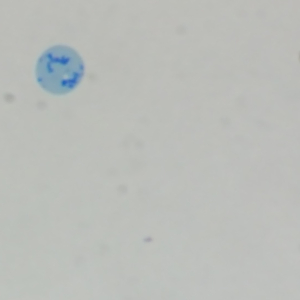aggregate reticulocyte: (32, 43, 86, 97)
